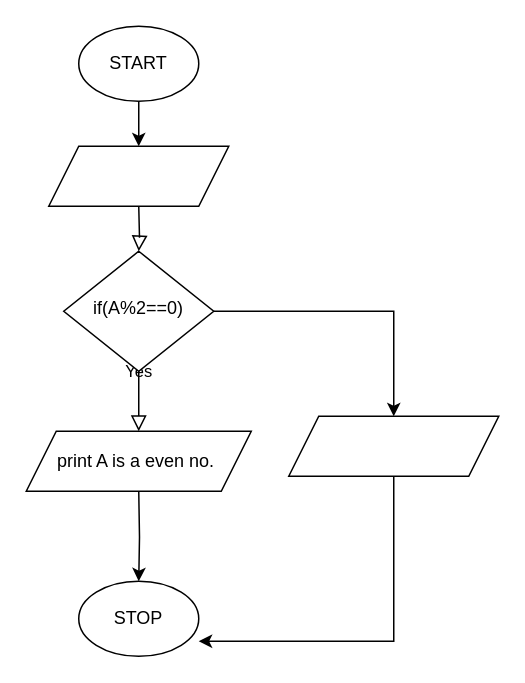
Image size: 525x683. Some labels were removed from this diagram. The shapes that lost their labels are listed below. From the top down, each one's box as (x1, y1, x2, y2) in pixels, then its label:
(47, 145, 229, 206): read A
(287, 415, 499, 476): print A is a odd no.
